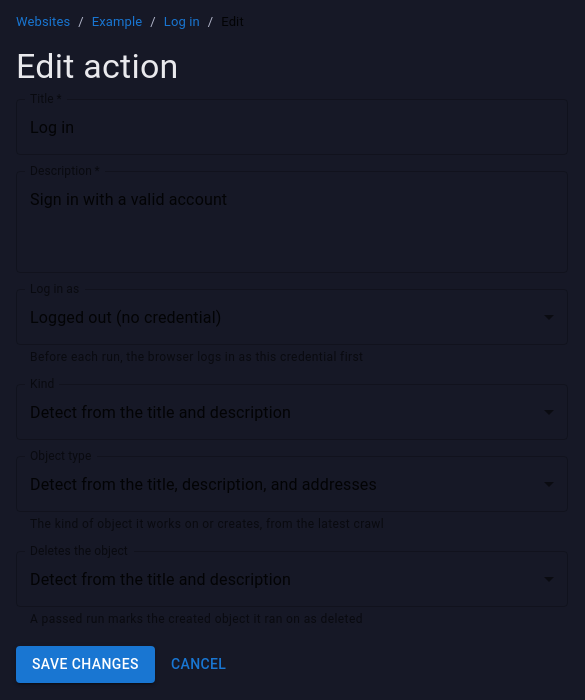
Test: WebsiteItemEditPage (actions) › shows the server's error and stays on the form when the save is rejected
Step 1. Click the button "Save changes" → click(85, 664), box left=16, top=646, right=155, bottom=683
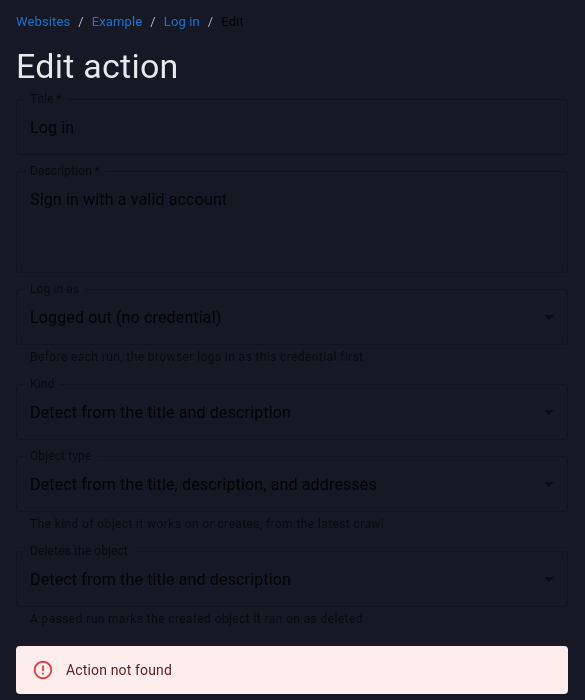
expect the field labelled "Title" holds "Log in": met, box left=16, top=99, right=568, bottom=155
expect the message reads "Action not found": met, box left=66, top=662, right=172, bottom=678
